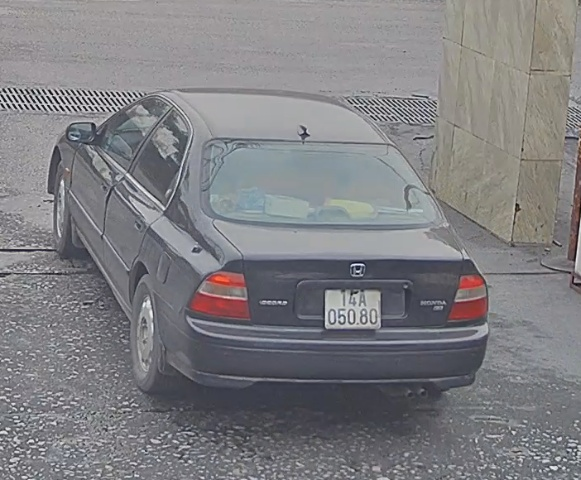vehicle plate: (321, 279, 390, 333)
